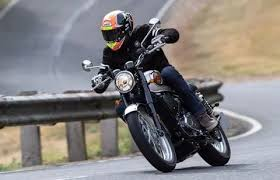motorcycle: (79, 18, 232, 172)
